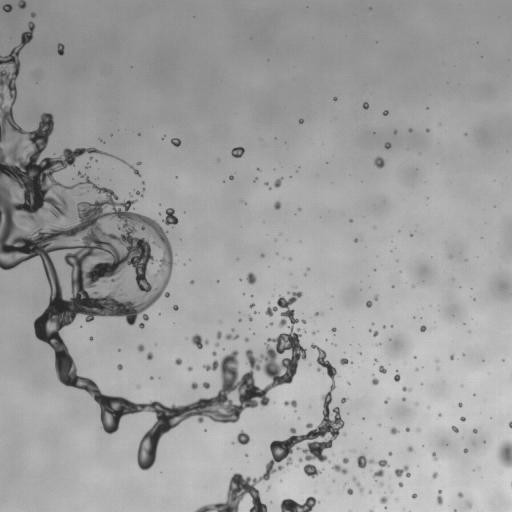droplet: (357, 454, 389, 479), (497, 440, 511, 467), (163, 208, 178, 226), (191, 334, 208, 349), (303, 464, 321, 477), (394, 465, 410, 477), (237, 430, 250, 444), (231, 146, 244, 157), (246, 272, 256, 284), (284, 399, 297, 408), (374, 157, 384, 168), (57, 43, 64, 55), (2, 4, 12, 12), (274, 177, 282, 187), (171, 138, 180, 146), (379, 495, 387, 504), (18, 0, 26, 8), (340, 358, 349, 365), (274, 201, 281, 209), (379, 365, 386, 373), (390, 427, 398, 434), (394, 372, 400, 381), (175, 358, 182, 365), (366, 300, 372, 307), (420, 325, 426, 332), (138, 344, 144, 351), (147, 352, 153, 359), (372, 378, 378, 385), (191, 382, 197, 389), (202, 382, 209, 388), (452, 426, 458, 433), (216, 331, 221, 339), (402, 386, 410, 391), (385, 142, 391, 148), (341, 397, 347, 403), (347, 488, 353, 494), (363, 102, 368, 109), (432, 453, 437, 460), (373, 330, 378, 336), (117, 364, 122, 370), (407, 446, 413, 451), (342, 458, 348, 463), (432, 472, 437, 478), (411, 493, 417, 498), (383, 110, 388, 115), (173, 305, 178, 310), (139, 323, 144, 328), (187, 366, 192, 371), (460, 416, 465, 421), (398, 482, 403, 487), (458, 492, 463, 497), (136, 191, 141, 195), (249, 303, 254, 307), (458, 402, 462, 407), (31, 13, 35, 17), (299, 119, 303, 123), (229, 175, 233, 179), (332, 327, 336, 331), (244, 337, 248, 341), (212, 351, 216, 355), (384, 399, 388, 403), (405, 427, 409, 431), (473, 429, 477, 433), (121, 160, 126, 163), (374, 295, 377, 300), (249, 315, 252, 320), (408, 128, 412, 131), (215, 343, 219, 346), (379, 482, 383, 485), (267, 486, 270, 490), (468, 503, 471, 507), (354, 239, 357, 242), (261, 254, 264, 257), (190, 280, 193, 283), (302, 320, 305, 323), (450, 355, 453, 358), (464, 449, 467, 452), (388, 452, 391, 455), (299, 458, 302, 461), (334, 97, 336, 100), (426, 129, 429, 131), (138, 162, 140, 165), (350, 219, 352, 222), (270, 322, 272, 325), (312, 332, 315, 334), (90, 337, 93, 339), (402, 398, 405, 400), (417, 428, 419, 431), (90, 157, 92, 159), (265, 182, 267, 184), (143, 188, 145, 190), (255, 311, 257, 313), (377, 343, 379, 345), (375, 359, 377, 361), (437, 367, 439, 369), (150, 377, 152, 379), (343, 433, 345, 435), (245, 454, 247, 456), (369, 491, 371, 493)
ligament: (0, 21, 302, 470), (195, 344, 344, 511), (280, 496, 317, 511), (352, 477, 363, 491), (332, 464, 347, 474), (129, 165, 140, 176), (436, 490, 442, 505), (225, 334, 238, 340), (315, 312, 321, 315), (509, 421, 511, 428), (369, 510, 373, 511), (453, 510, 456, 511)
